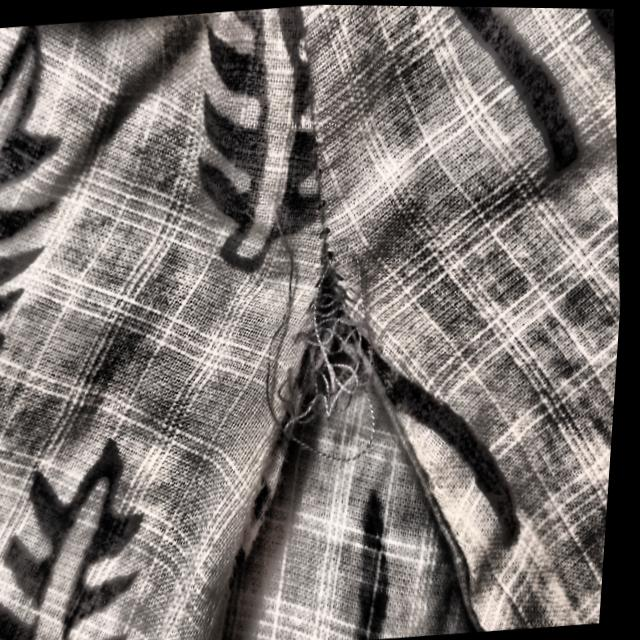Stitch: (239, 159, 413, 484)
